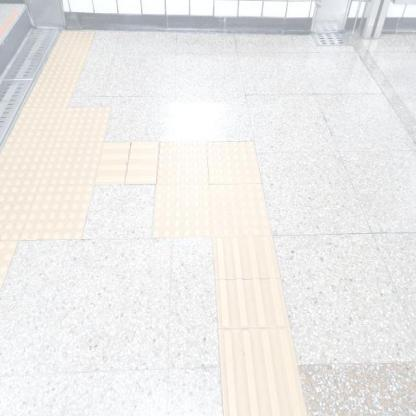podotacti: (140, 110, 316, 290), (212, 238, 308, 415), (54, 107, 94, 241), (97, 141, 157, 183)
